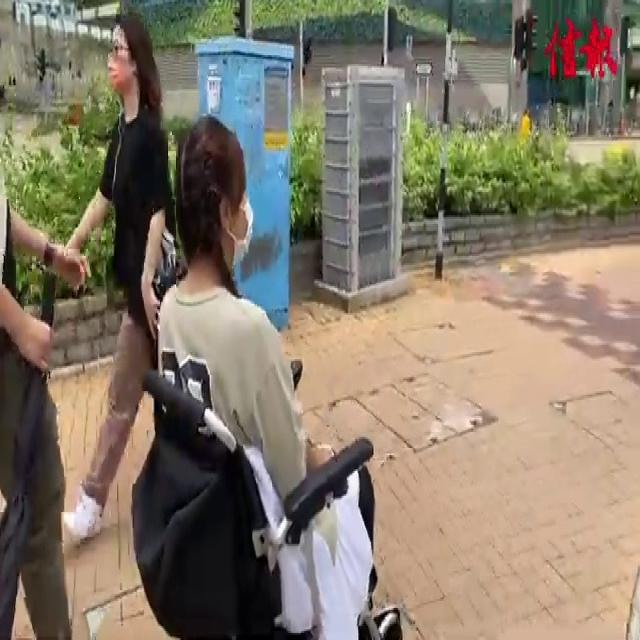wheelchairs: (116, 329, 440, 640)
